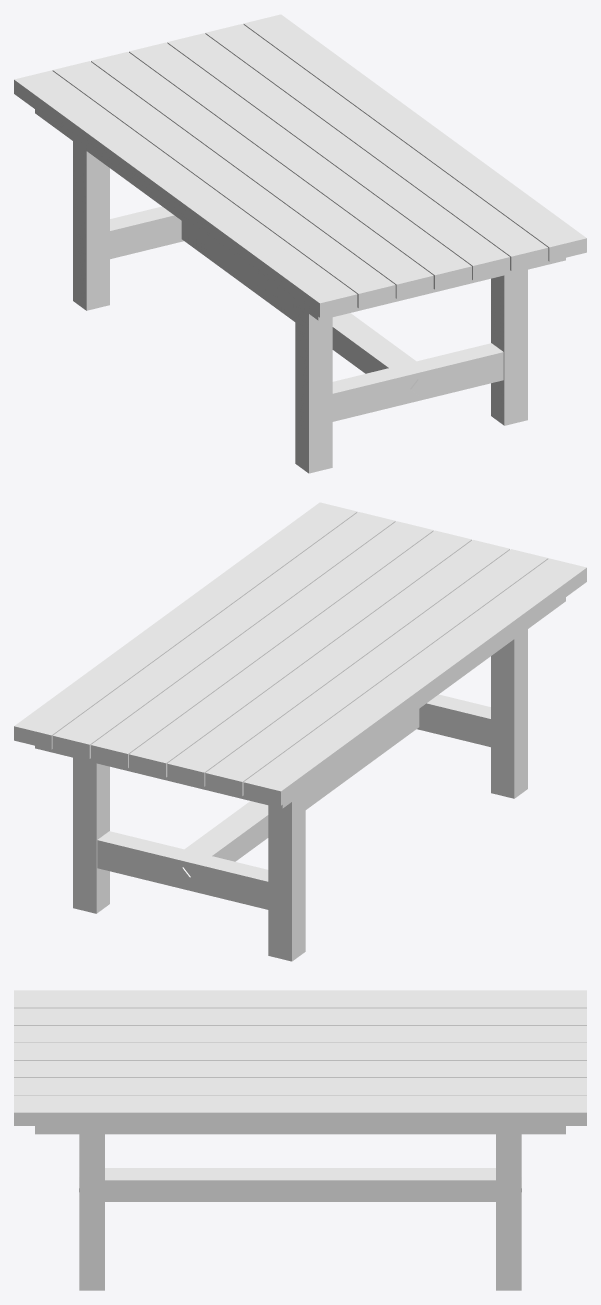
The model's file is Prop_Wooden_Table_03.glb.
3 renders of one model, top to bottom at view 1: azimuth 30°, elevation 25°; view 2: azimuth 150°, elevation 25°; view 3: azimuth 270°, elevation 25°, orthographic. The views are drawn at different scales.
Visible parts, largest first — view 1: Prop_Wooden_Table_03; view 2: Prop_Wooden_Table_03; view 3: Prop_Wooden_Table_03.
Boxes of the visible parts, left/top/right/bottom form: Prop_Wooden_Table_03: left=14, top=14, right=586, bottom=473; Prop_Wooden_Table_03: left=14, top=502, right=586, bottom=961; Prop_Wooden_Table_03: left=14, top=990, right=586, bottom=1290.
Bounding box in the file's own units: 1.21 × 0.8727 × 2.4.
1 material, 1 textured.
